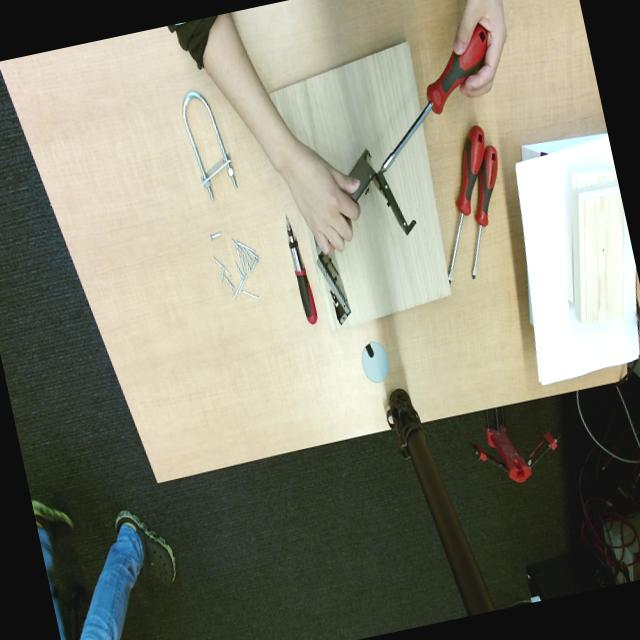screwdriver: (381, 23, 488, 172), (447, 125, 484, 281), (286, 216, 317, 324), (472, 145, 497, 278)
